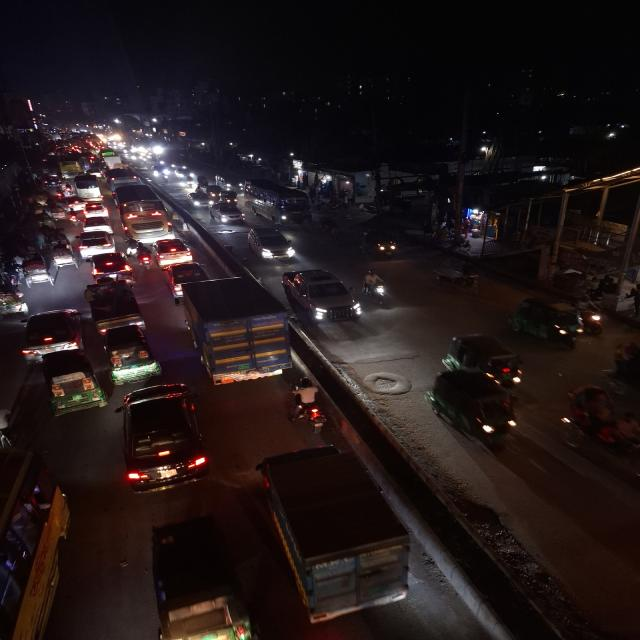bus: (112, 184, 170, 242), (245, 181, 312, 226), (58, 156, 83, 178)
car: (115, 383, 210, 496), (281, 266, 363, 326), (19, 306, 84, 364), (245, 226, 299, 264), (149, 237, 195, 267), (87, 249, 129, 280), (73, 229, 116, 259), (208, 201, 246, 225), (80, 214, 115, 232), (106, 168, 138, 186), (186, 190, 213, 208), (82, 202, 110, 218)
cng: (139, 516, 258, 640), (425, 370, 523, 448), (442, 331, 528, 388), (39, 351, 106, 419), (507, 296, 587, 348), (100, 328, 161, 384), (357, 229, 401, 260), (220, 190, 240, 205)
motorcycle: (288, 377, 332, 433), (607, 339, 640, 393), (359, 268, 392, 309), (135, 244, 153, 270), (124, 238, 140, 258), (65, 206, 80, 224)
rickshaw: (560, 381, 640, 483), (38, 352, 107, 420), (17, 252, 57, 288), (50, 240, 77, 272)
truck: (256, 459, 426, 618), (177, 275, 294, 387)
